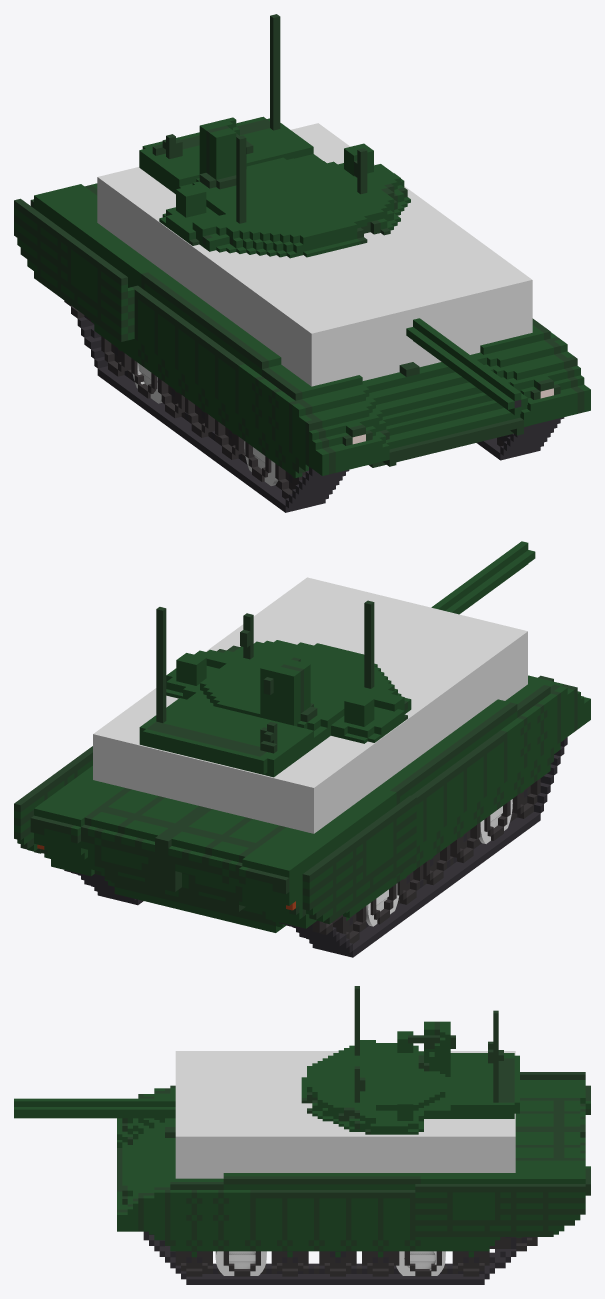
File: tank.glb
3 renders of one model, top to bottom at view 1: azimuth 30°, elevation 25°; view 2: azimuth 150°, elevation 25°; view 3: azimuth 270°, elevation 25°, orthographic. The views are drawn at different scales.
Visible parts, largest first — view 1: body, CubeTank, turret; view 2: body, CubeTank, turret; view 3: body, CubeTank, turret, wheel_fl, Cylinder.001.
Boxes of the visible parts, x1,y1,x2,y2 form: body: (14, 183, 590, 512); CubeTank: (97, 123, 532, 386); turret: (139, 14, 527, 415); body: (14, 675, 590, 957); CubeTank: (93, 577, 527, 833); turret: (139, 541, 535, 777); body: (117, 1072, 590, 1284); CubeTank: (175, 1051, 515, 1178); turret: (14, 986, 519, 1134); wheel_fl: (215, 1251, 266, 1275); Cylinder.001: (396, 1251, 445, 1275).
Bounding box in the file's own units: 2.5 × 2.5 × 5.32.
2 materials, 2 textured.
